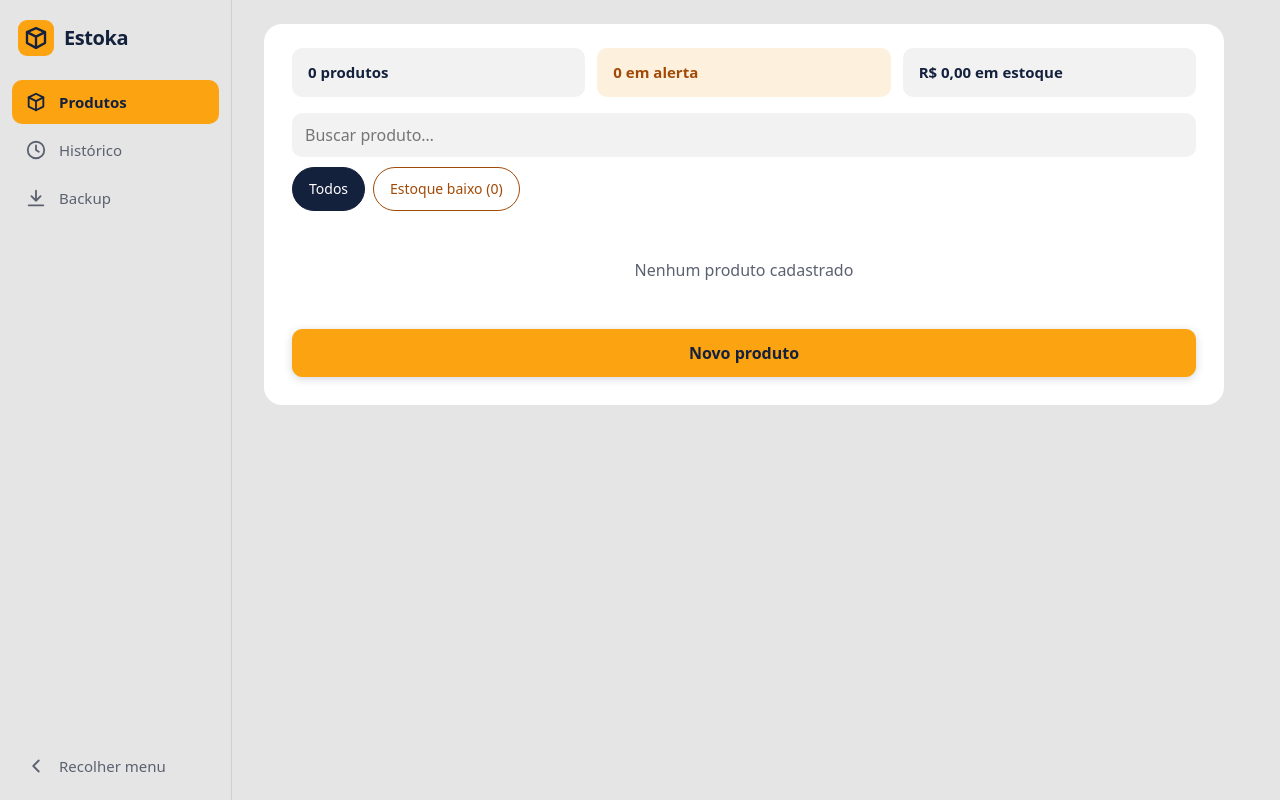
mostra erro de texto inválido e de decimal em un
Click the button "Novo produto" at (744, 353), box [292, 329, 1196, 377]
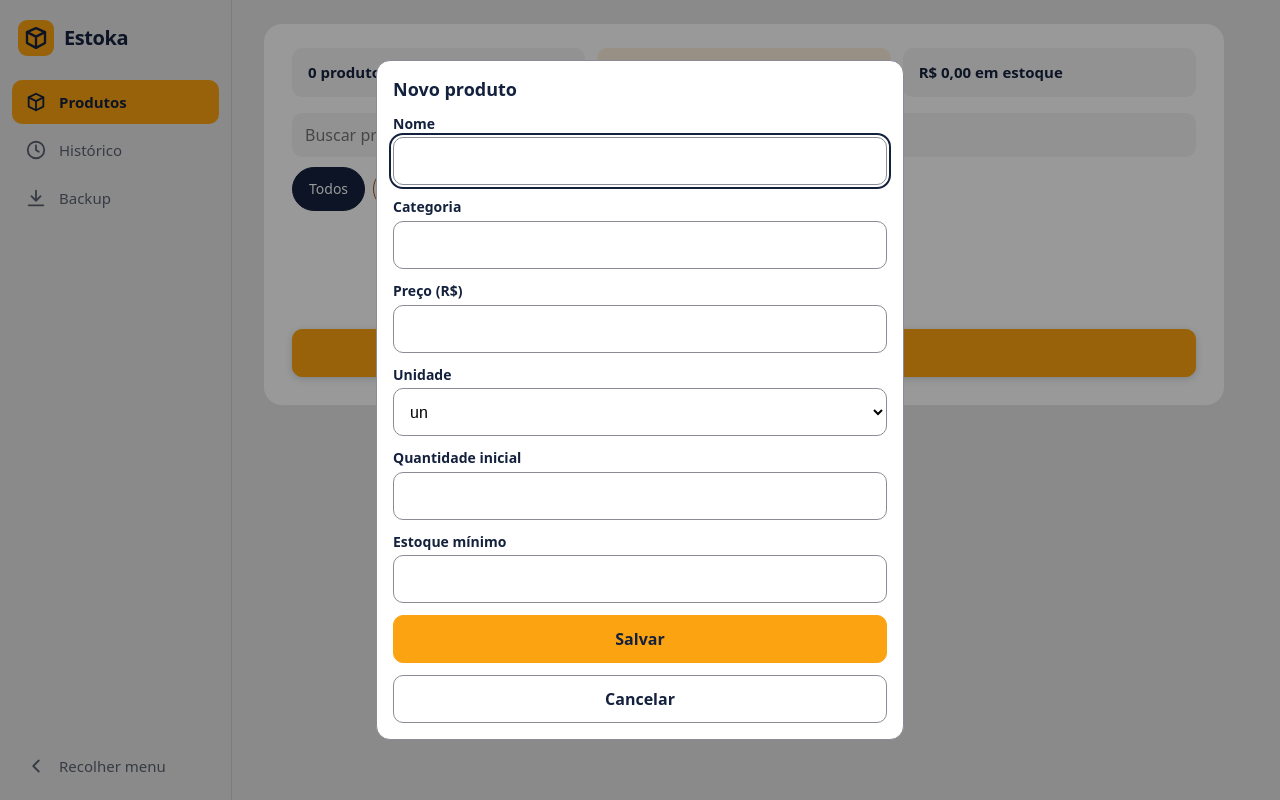
Type "abc" into the field labelled "Preço (R$)" at (640, 329), box [393, 305, 887, 353]
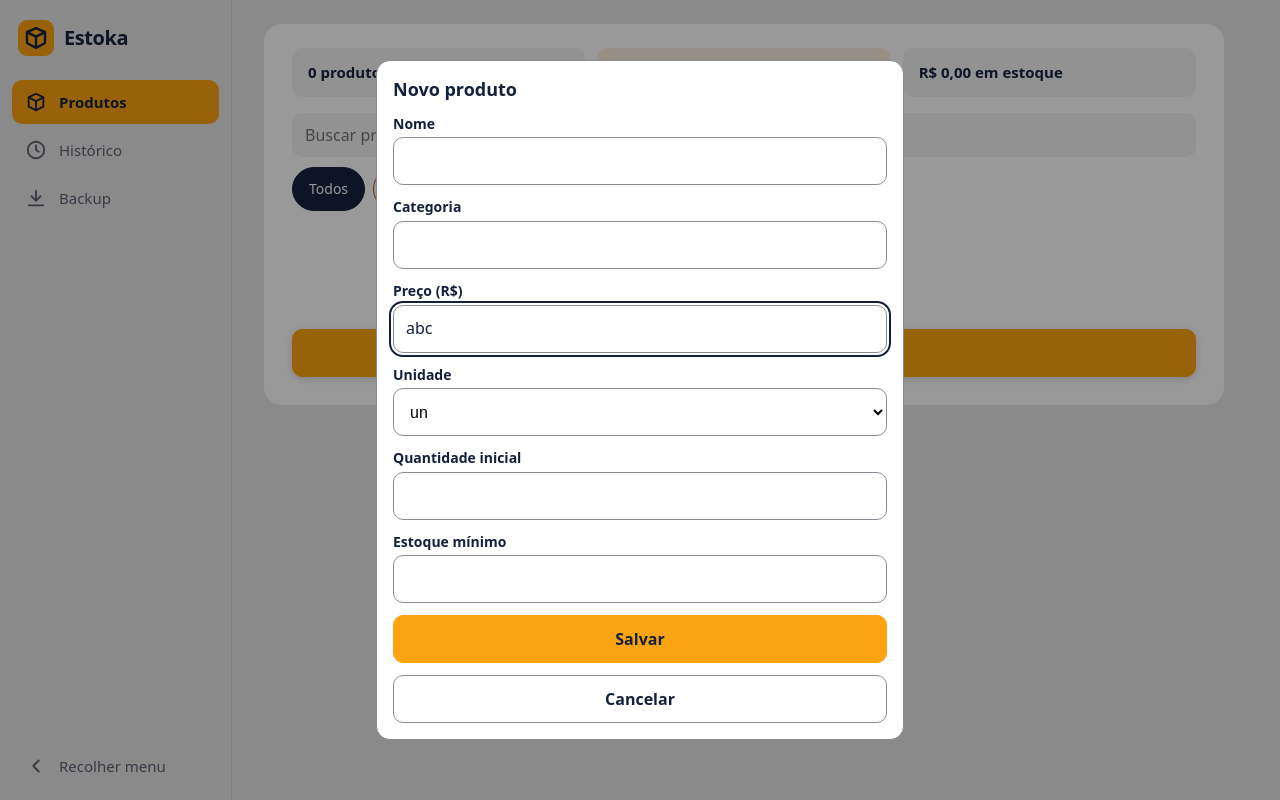
Type "1,5" into the field labelled "Quantidade inicial" at (640, 496), box [393, 472, 887, 520]
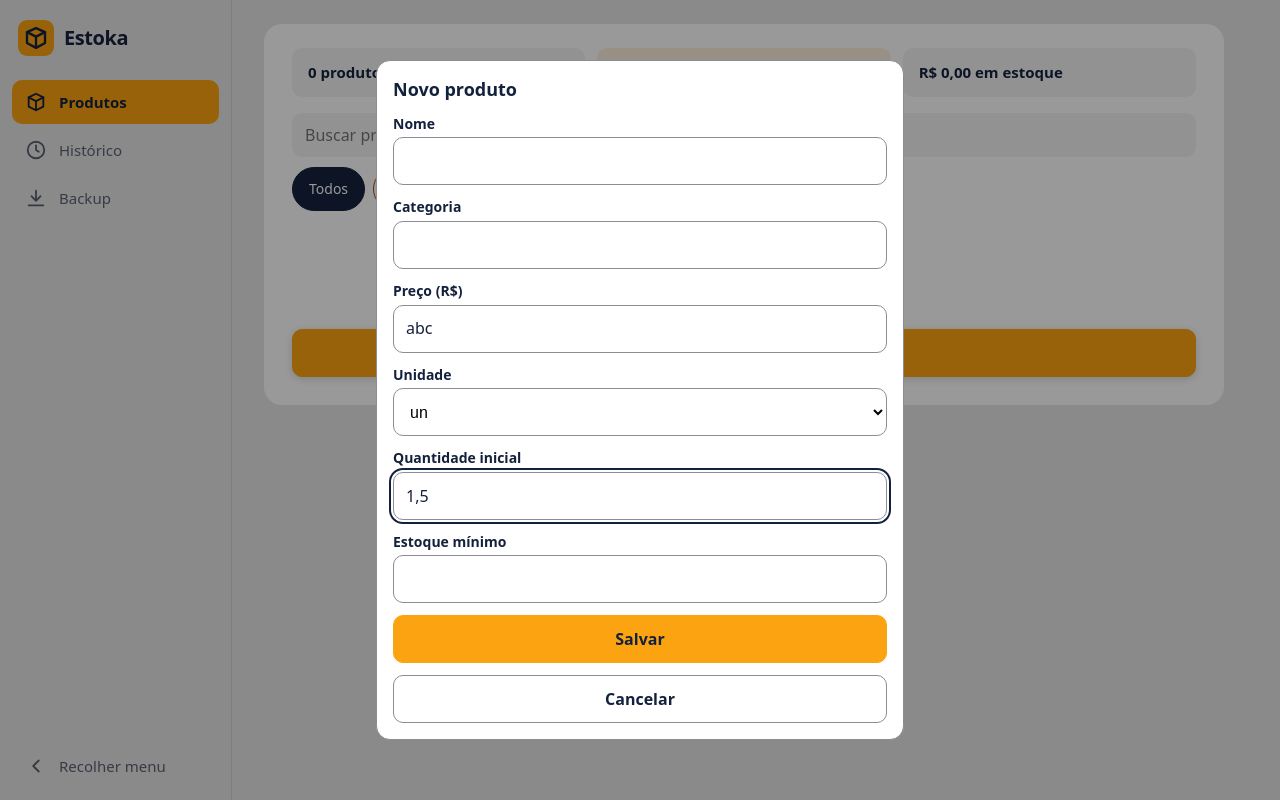
Click the button "Salvar" at (640, 639), box [393, 615, 887, 663]
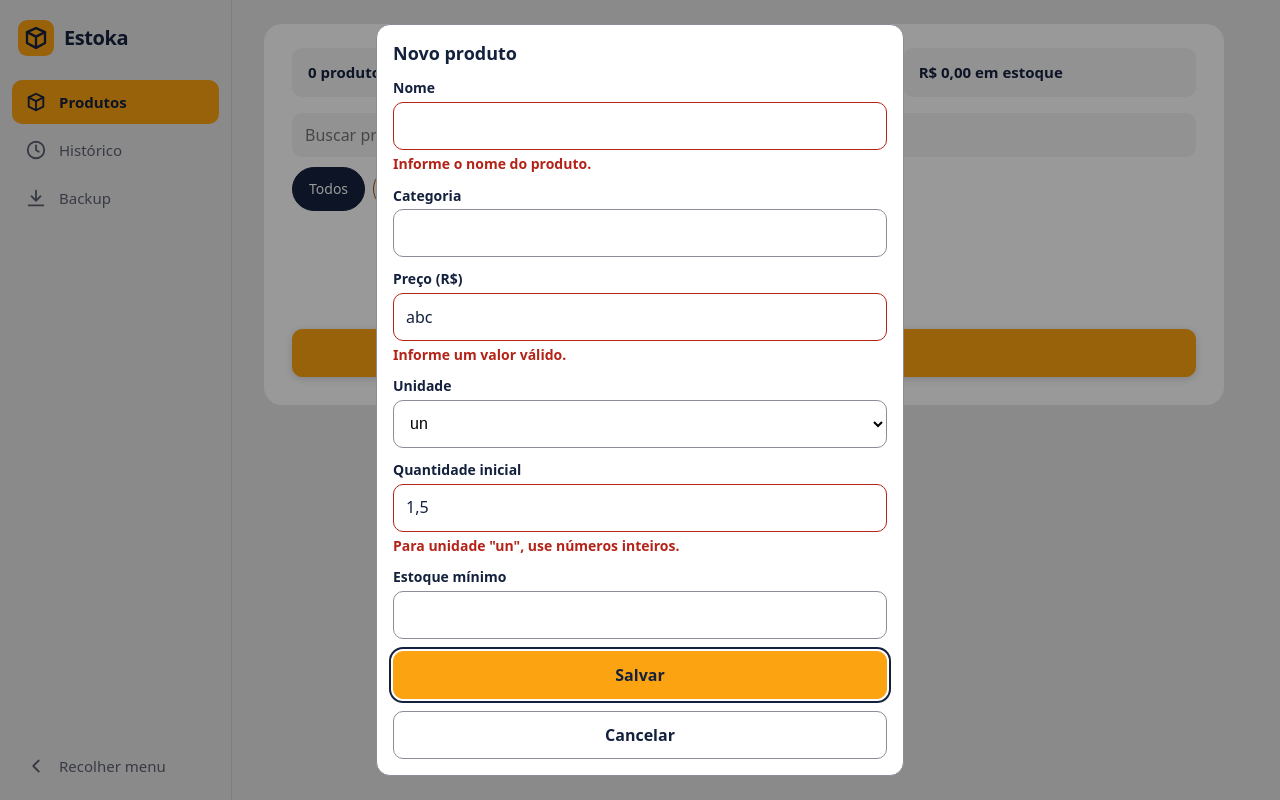
Now the text "Informe o nome do produto." is shown, box [393, 154, 591, 173]
Now the text "Informe um valor válido." is shown, box [393, 345, 566, 364]
Now the text "Para unidade \"un\", use números inteiros." is shown, box [393, 536, 680, 555]
